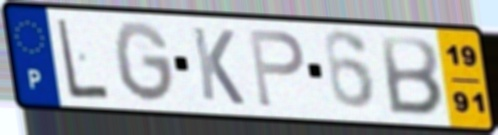6: (324, 27, 378, 120)
B: (377, 33, 445, 118)
G: (111, 18, 178, 106)
K: (188, 24, 247, 108)
L: (54, 15, 112, 101)
P: (245, 26, 308, 111)
